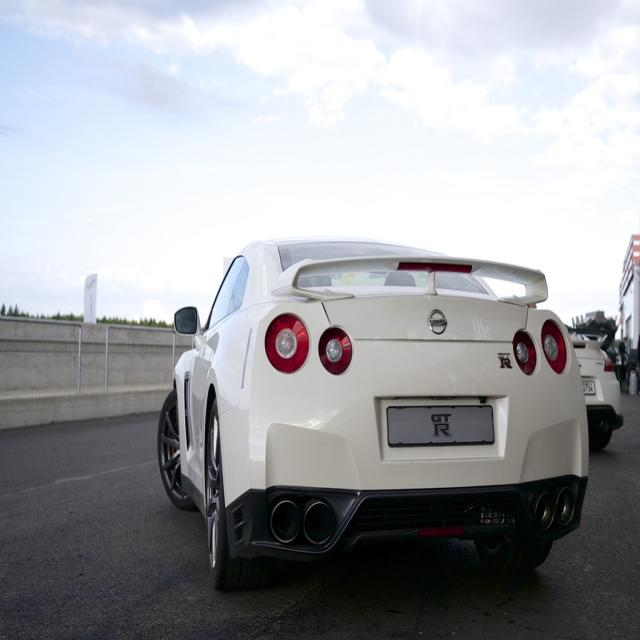car: (162, 227, 595, 588)
